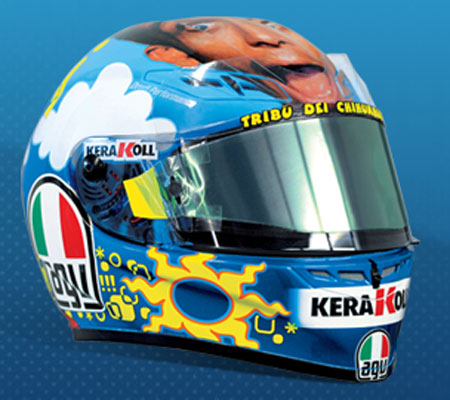helmet: (29, 26, 402, 348)
